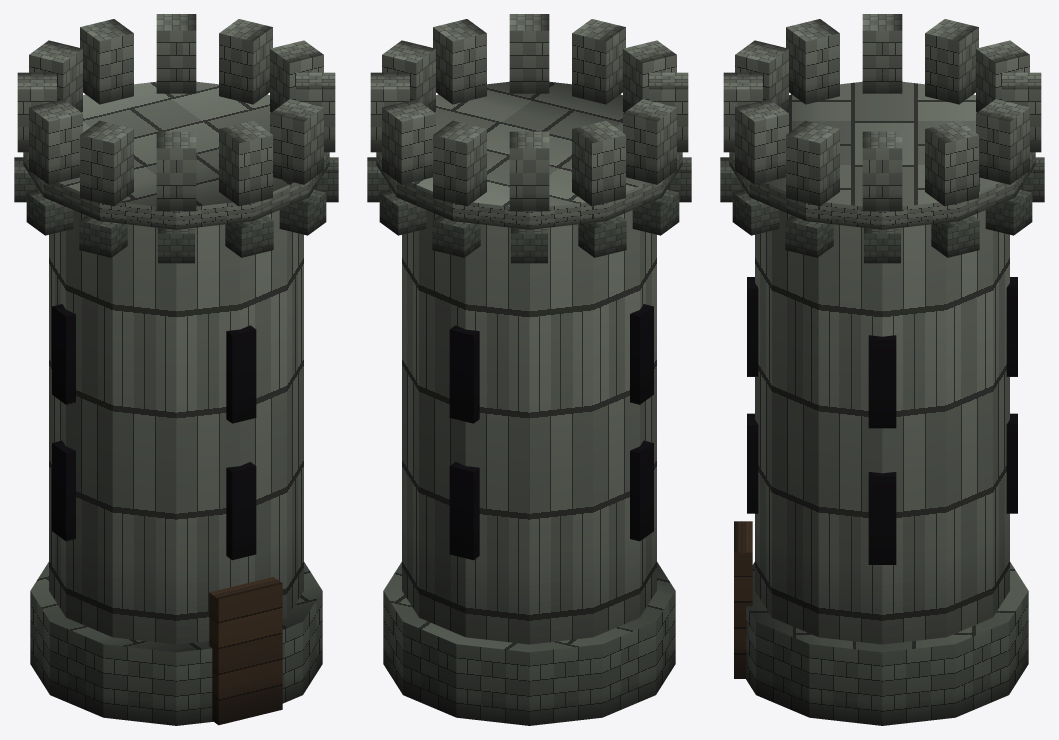
Rendered from guard_tower.glb.
3 renders of one model, left to right at view 1: azimuth 30°, elevation 25°; view 2: azimuth 150°, elevation 25°; view 3: azimuth 270°, elevation 25°, orthographic.
Visible parts, largest first — view 1: guard_tower; view 2: guard_tower; view 3: guard_tower.
Boxes of the visible parts, bbox=[...] form: guard_tower: bbox=[14, 14, 338, 725]; guard_tower: bbox=[367, 14, 691, 725]; guard_tower: bbox=[720, 14, 1044, 725].
Size of the model in its own units: 1.4 by 2.77 by 1.4.
1 material, 1 textured.
